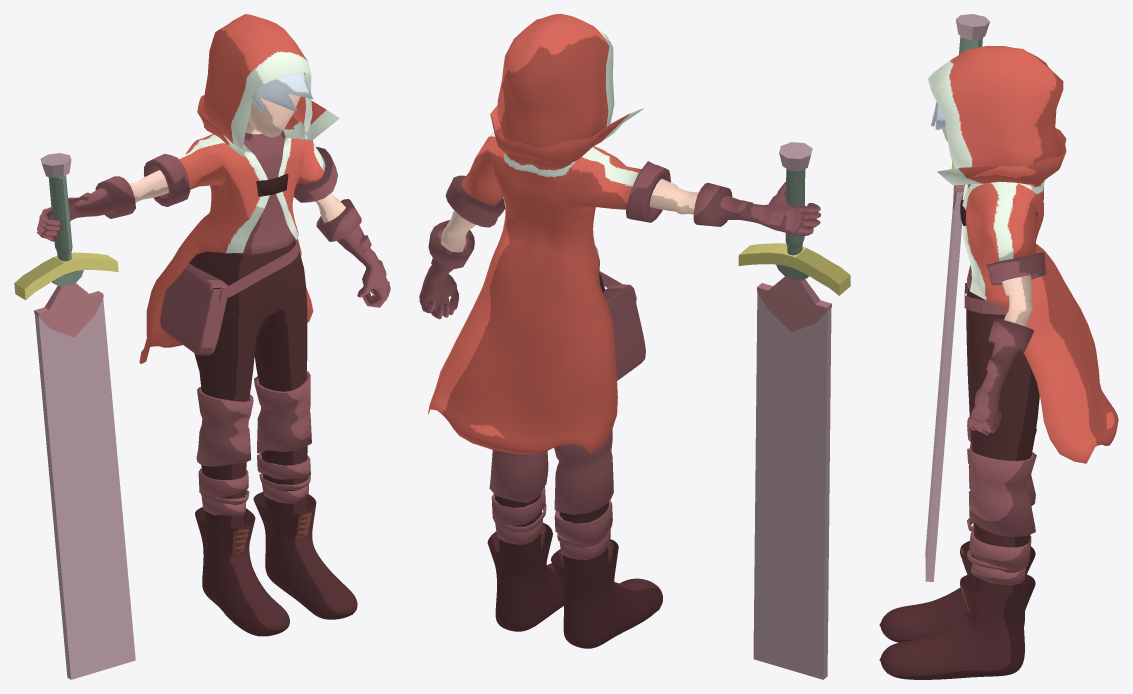
Rendered from hero.glb.
3 renders of one model, left to right at view 1: azimuth 30°, elevation 25°; view 2: azimuth 150°, elevation 25°; view 3: azimuth 270°, elevation 25°, orthographic. The views are drawn at different scales.
Parts seen in each view (by area): view 1: Cube_001, Plane, Cube_004, Cube_002, Cube_2, Cube_003; view 2: Cube_001, Plane, Cube_004, Cube_002, Cube_003, Cube_2; view 3: Cube_001, Cube_004, Plane, Cube_002, Cube_003, Cube_2.
Part boxes in pixels (<box>): Cube_001: <box>37,14,390,635</box>; Plane: <box>14,153,135,679</box>; Cube_004: <box>195,492,357,636</box>; Cube_002: <box>196,371,311,466</box>; Cube_2: <box>160,236,300,355</box>; Cube_003: <box>198,453,310,516</box>; Cube_001: <box>419,14,821,629</box>; Plane: <box>738,142,850,679</box>; Cube_004: <box>487,523,662,648</box>; Cube_002: <box>489,429,613,514</box>; Cube_003: <box>491,487,612,559</box>; Cube_2: <box>599,271,645,380</box>; Cube_001: <box>879,46,1118,678</box>; Cube_004: <box>881,541,1035,679</box>; Plane: <box>925,14,989,581</box>; Cube_002: <box>967,417,1036,536</box>; Cube_003: <box>966,515,1031,585</box>; Cube_2: <box>964,283,1008,314</box>.
Bounding box in the file's own units: 297 × 431 × 151.
Materials: 6 (6 with a texture image).
